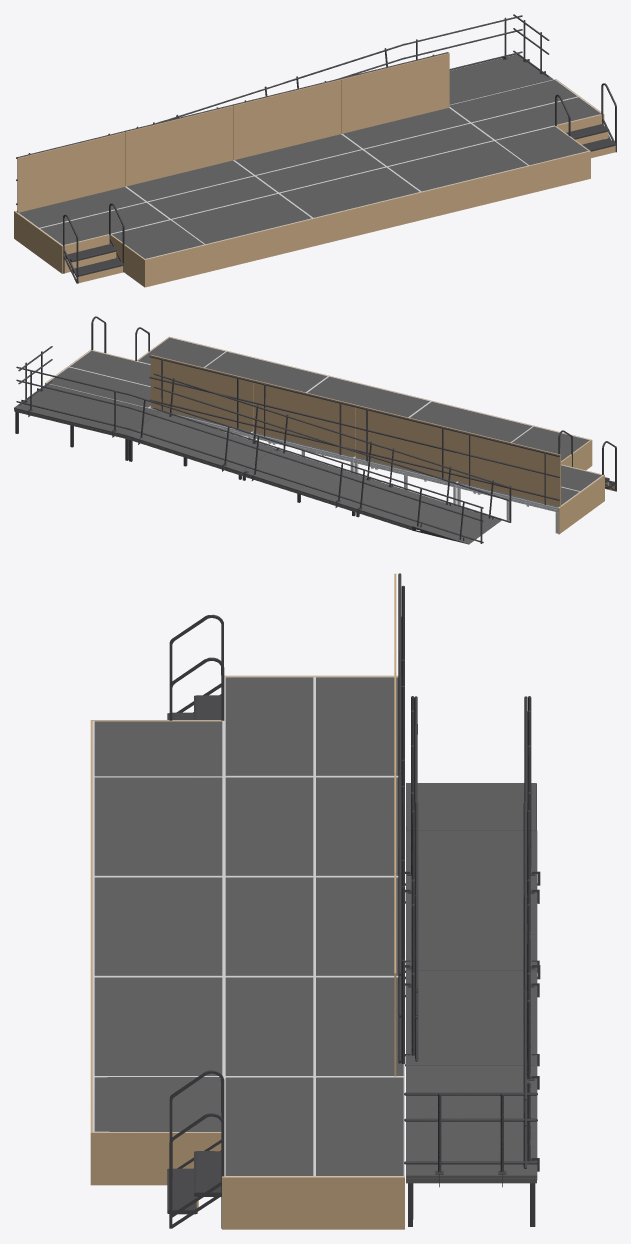
3 views of the same model, one above another, from view 1: azimuth 30°, elevation 25°; view 2: azimuth 150°, elevation 25°; view 3: azimuth 270°, elevation 25° (orthographic). The views are drawn at different scales.
Visible parts, largest first — view 1: veneer, deck_top, hardware, deck_edge; view 2: deck_top, veneer, hardware, deck_edge; view 3: deck_top, hardware, veneer, deck_edge.
Part boxes in pixels (x1,y1,x2,y2): veneer: (14, 53, 615, 287); deck_top: (16, 54, 600, 258); hardware: (16, 14, 616, 283); deck_edge: (15, 79, 601, 259); deck_top: (14, 337, 601, 544); veneer: (45, 336, 614, 534); hardware: (15, 316, 616, 544); deck_edge: (46, 337, 603, 533); deck_top: (94, 677, 537, 1183); hardware: (167, 573, 540, 1228); veneer: (90, 573, 404, 1229); deck_edge: (92, 676, 404, 1176).
Size of the model in its own units: 11.01 by 1.59 by 4.17.
